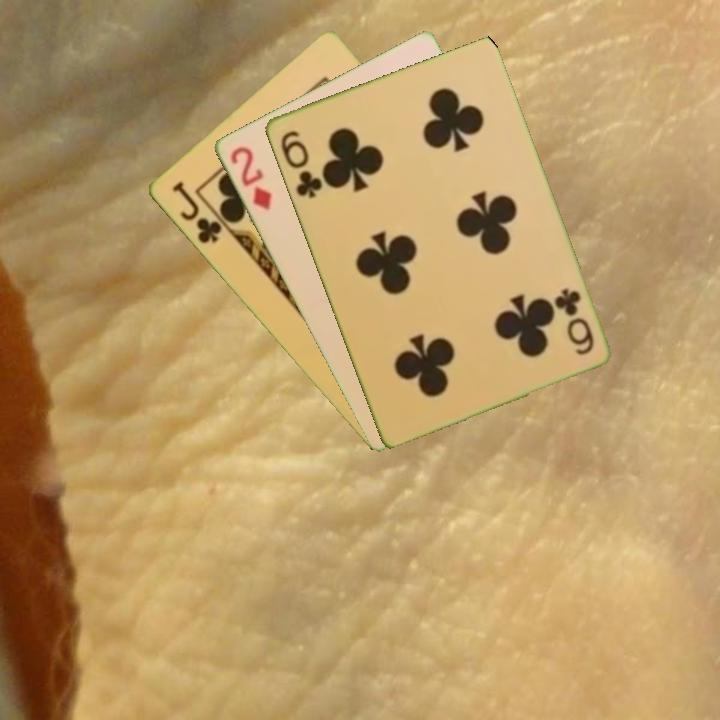2d: (226, 142, 275, 214)
6c: (276, 127, 325, 201), (550, 284, 597, 358)
Jc: (168, 177, 225, 247)
